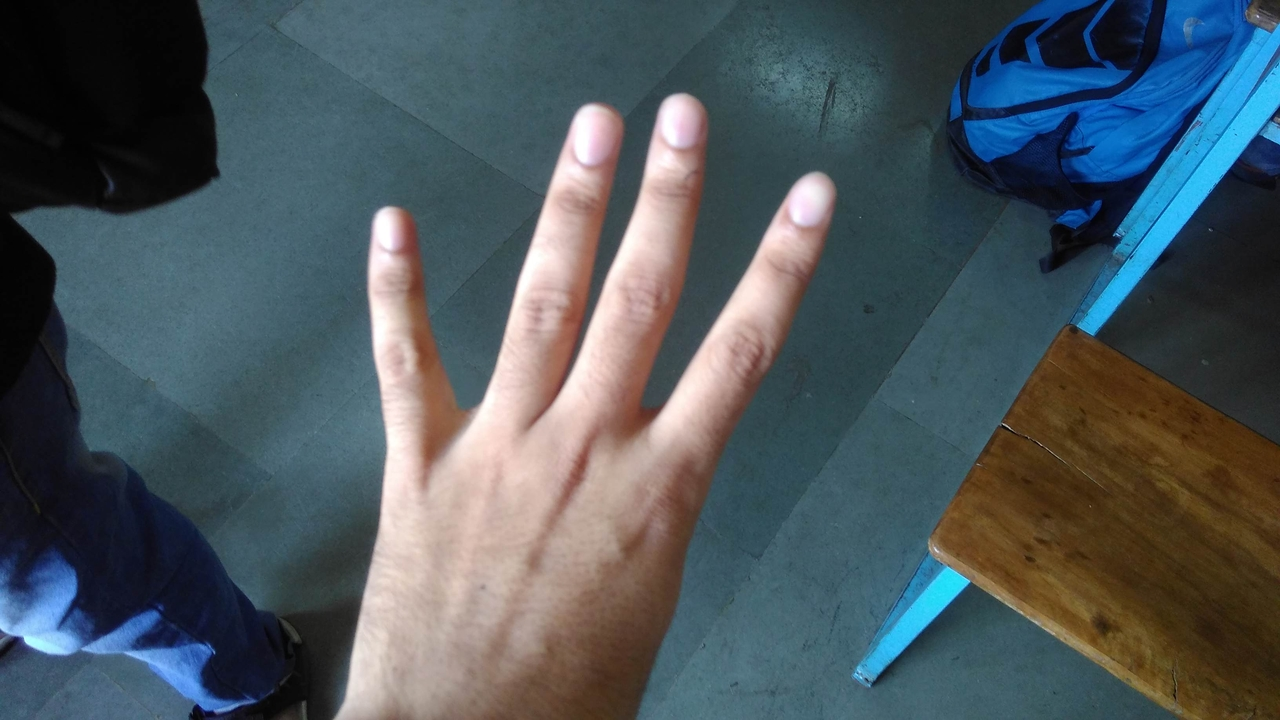fingertip: (778, 160, 844, 228), (558, 98, 626, 162), (646, 90, 714, 152), (364, 196, 420, 260)
